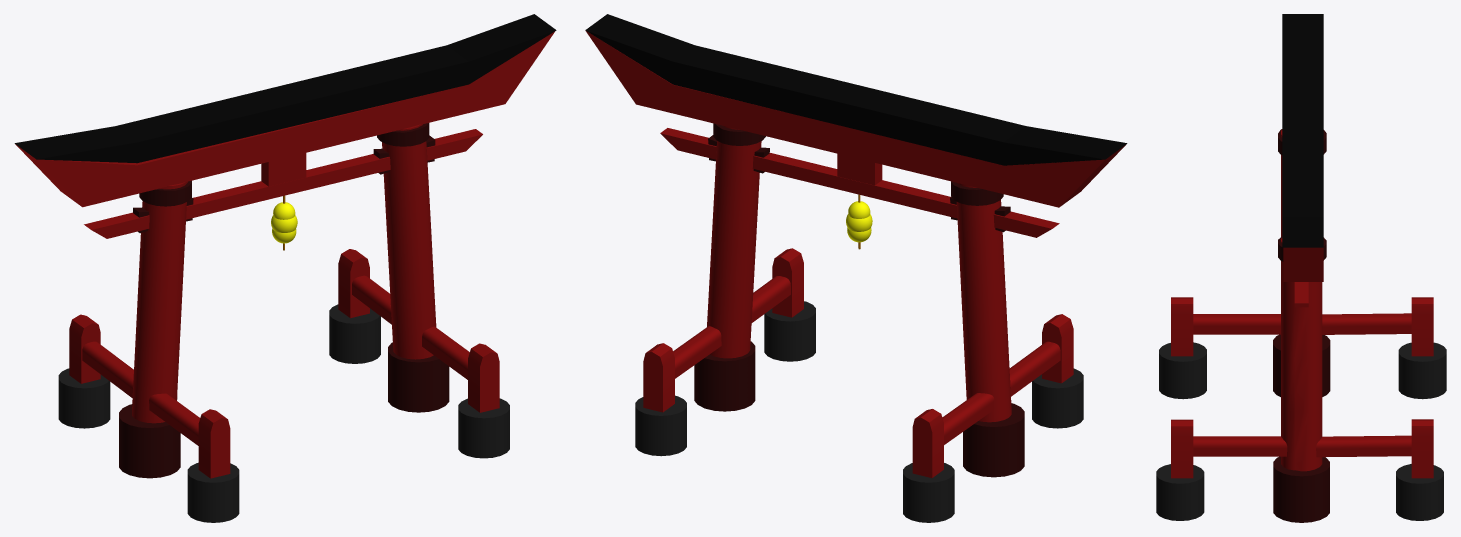
Rendered from toriifinal.dae.
3 renders of one model, left to right at view 1: azimuth 30°, elevation 25°; view 2: azimuth 150°, elevation 25°; view 3: azimuth 270°, elevation 25°, orthographic. The views are drawn at different scales.
Visible parts, largest first — view 1: Box008, Box007, Cylinder009, Cylinder010, Box005, Cylinder001, Cylinder002, Cylinder005, Cylinder006, Cylinder008, Cylinder007, Box002 (+10 smaller); view 2: Box008, Box007, Cylinder009, Cylinder010, Box005, Cylinder001, Cylinder002, Cylinder008, Cylinder007, Cylinder005, Cylinder006, Box003 (+10 smaller); view 3: Box008, Cylinder009, Cylinder002, Cylinder008, Cylinder006, Cylinder007, Cylinder005, Line022, Line021, Line019, Line020, Box007 (+6 smaller).
Boxes of the visible parts, bbox=[...] form: Box008: bbox=[14, 14, 556, 163]; Box007: bbox=[15, 31, 554, 207]; Cylinder009: bbox=[382, 124, 436, 359]; Cylinder010: bbox=[132, 181, 187, 423]; Box005: bbox=[84, 129, 482, 238]; Cylinder001: bbox=[119, 404, 180, 478]; Cylinder002: bbox=[388, 342, 449, 412]; Cylinder005: bbox=[187, 462, 239, 522]; Cylinder006: bbox=[458, 398, 509, 458]; Cylinder008: bbox=[58, 368, 110, 428]; Cylinder007: bbox=[329, 304, 380, 363]; Box002: bbox=[198, 409, 230, 478]; Box008: bbox=[585, 14, 1127, 165]; Box007: bbox=[585, 30, 1126, 207]; Cylinder009: bbox=[707, 126, 761, 358]; Cylinder010: bbox=[956, 183, 1011, 422]; Box005: bbox=[660, 128, 1059, 237]; Cylinder001: bbox=[963, 403, 1024, 477]; Cylinder002: bbox=[694, 341, 755, 411]; Cylinder008: bbox=[903, 463, 954, 522]; Cylinder007: bbox=[635, 395, 686, 456]; Cylinder005: bbox=[1032, 368, 1083, 428]; Cylinder006: bbox=[764, 301, 815, 361]; Box003: bbox=[643, 343, 674, 412]; Box008: bbox=[1282, 14, 1323, 247]; Cylinder009: bbox=[1281, 238, 1322, 471]; Cylinder002: bbox=[1273, 456, 1329, 522]; Cylinder008: bbox=[1398, 342, 1446, 399]; Cylinder006: bbox=[1156, 464, 1204, 520]; Cylinder007: bbox=[1396, 464, 1443, 520]; Cylinder005: bbox=[1159, 342, 1206, 399]; Line022: bbox=[1316, 435, 1411, 457]; Line021: bbox=[1193, 436, 1287, 456]; Line019: bbox=[1322, 313, 1411, 334]; Line020: bbox=[1193, 314, 1280, 334]; Box007: bbox=[1283, 247, 1323, 281].
Size of the model in its own units: 271 by 173 by 141.
